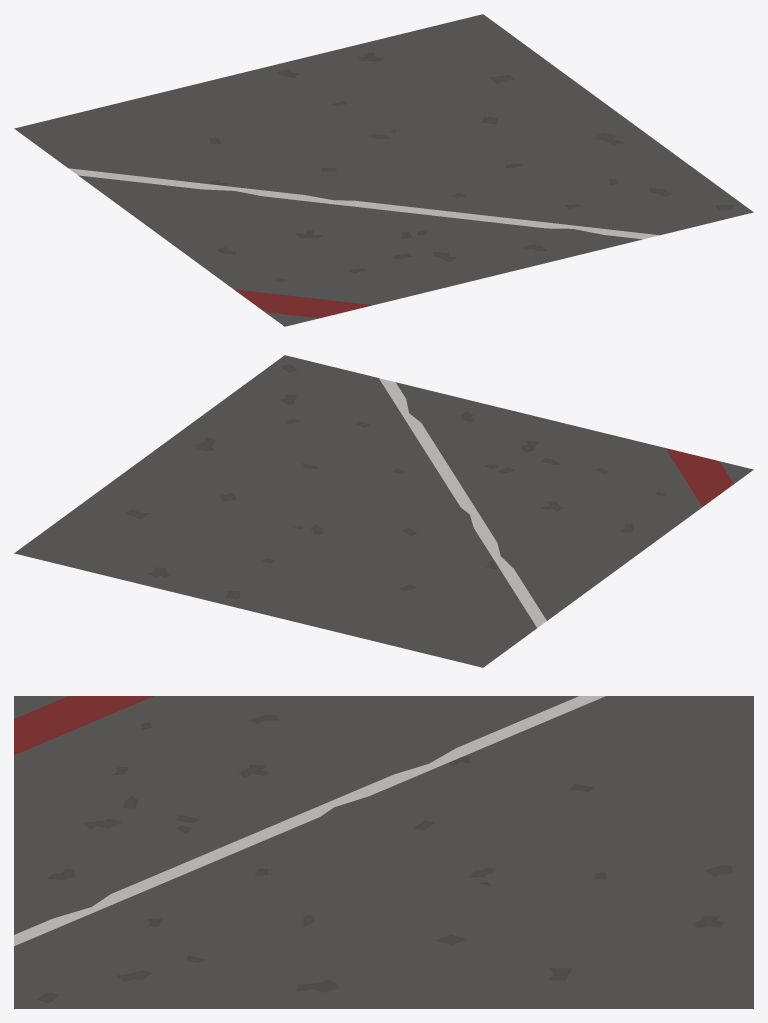
File: SM_Env_Ground_Lines_Edge_Corner_01.fbx
3 renders of one model, top to bottom at view 1: azimuth 30°, elevation 25°; view 2: azimuth 150°, elevation 25°; view 3: azimuth 270°, elevation 25°, orthographic. The views are drawn at different scales.
Parts seen in each view (by area): view 1: SM_Env_Ground_Lines_Edge_Corner_01; view 2: SM_Env_Ground_Lines_Edge_Corner_01; view 3: SM_Env_Ground_Lines_Edge_Corner_01.
Part boxes in pixels (x1=…): SM_Env_Ground_Lines_Edge_Corner_01: x1=14, y1=14, x2=753, y2=326; SM_Env_Ground_Lines_Edge_Corner_01: x1=14, y1=355, x2=753, y2=667; SM_Env_Ground_Lines_Edge_Corner_01: x1=14, y1=696, x2=753, y2=1008.
Size of the model in its own units: 1000 by 1.82e-12 by 1000.
